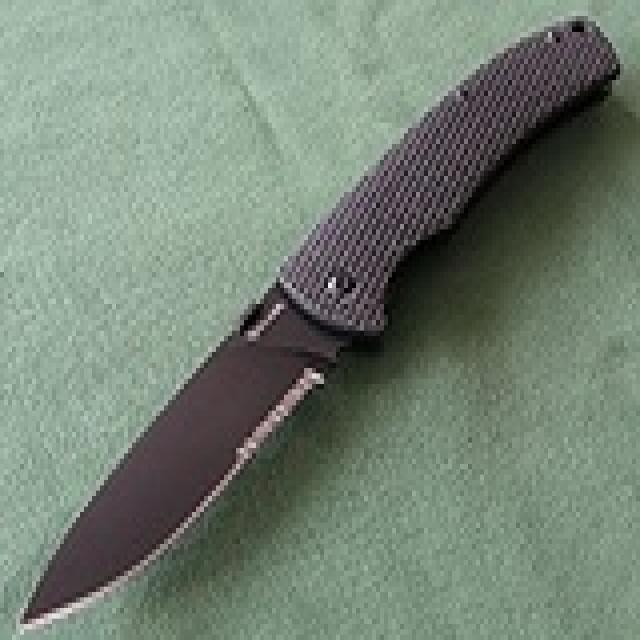Knife: (4, 10, 623, 640)
